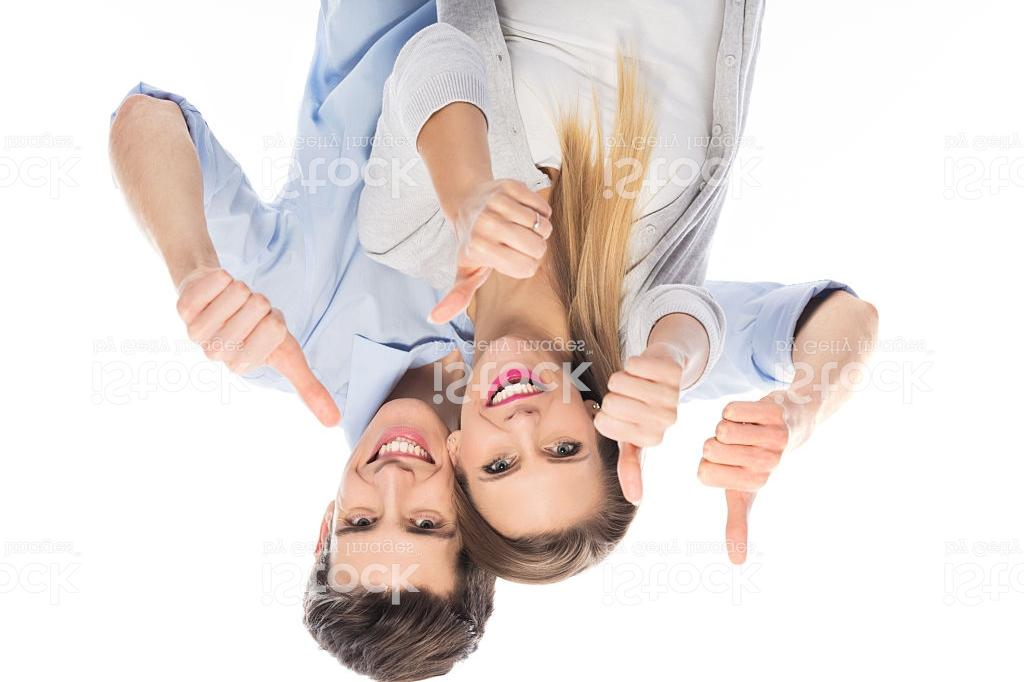thumbsdown: (175, 265, 344, 429), (427, 179, 556, 327), (692, 396, 792, 566), (592, 349, 684, 506)
